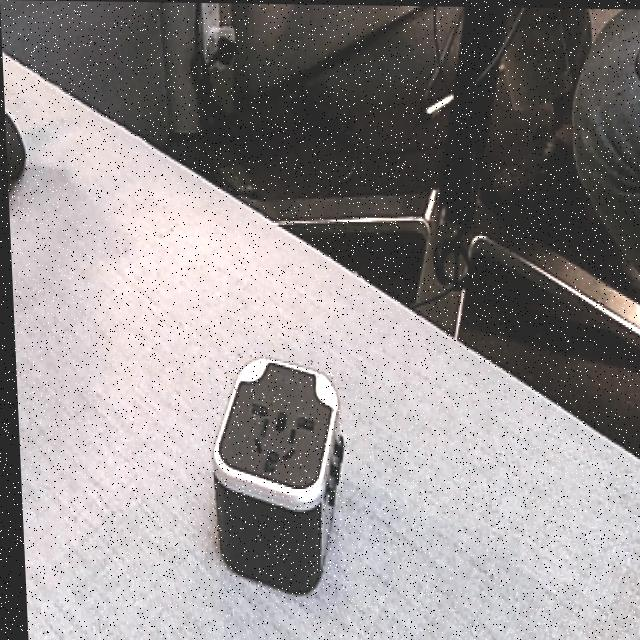adapter: (204, 353, 348, 594)
